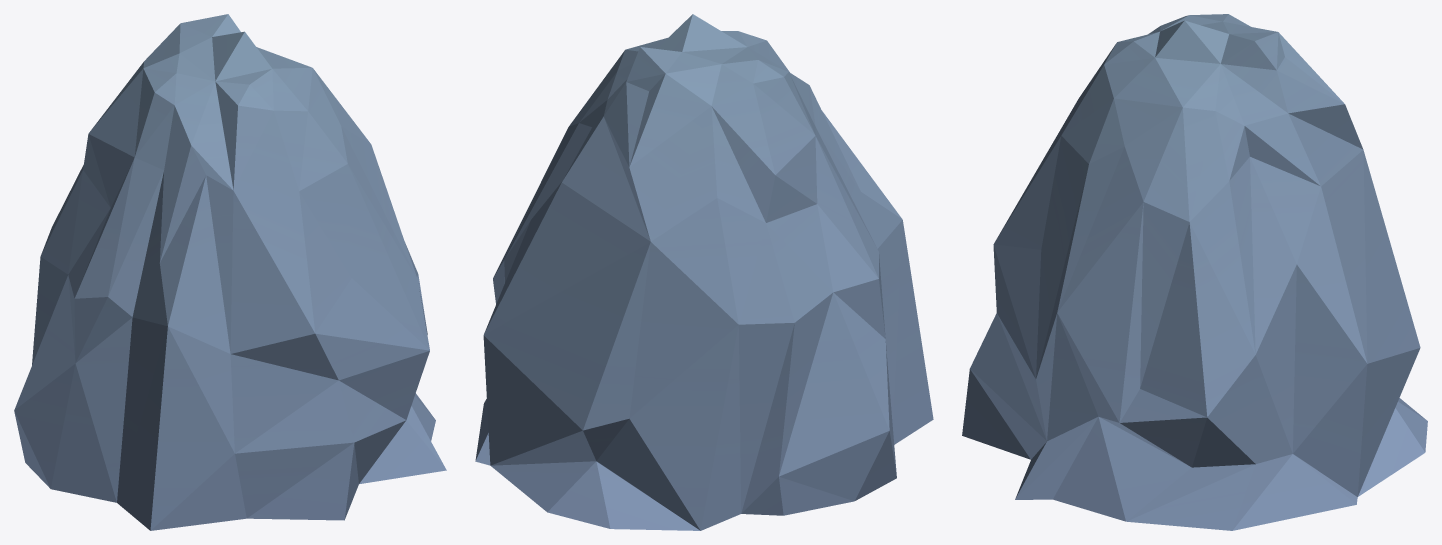
The model's file is ShwedenRock_0.fbx.
3 views of the same model, side by side, from view 1: azimuth 30°, elevation 25°; view 2: azimuth 150°, elevation 25°; view 3: azimuth 270°, elevation 25° (orthographic). The views are drawn at different scales.
Parts seen in each view (by area): view 1: ShwedenRock_0; view 2: ShwedenRock_0; view 3: ShwedenRock_0.
Part boxes in pixels (x1,y1,x2,y2): ShwedenRock_0: [14, 14, 446, 530]; ShwedenRock_0: [475, 14, 933, 530]; ShwedenRock_0: [962, 14, 1427, 530].
Bounding box in the file's own units: 1.25 × 1.23 × 1.24.
1 material, 1 textured.
